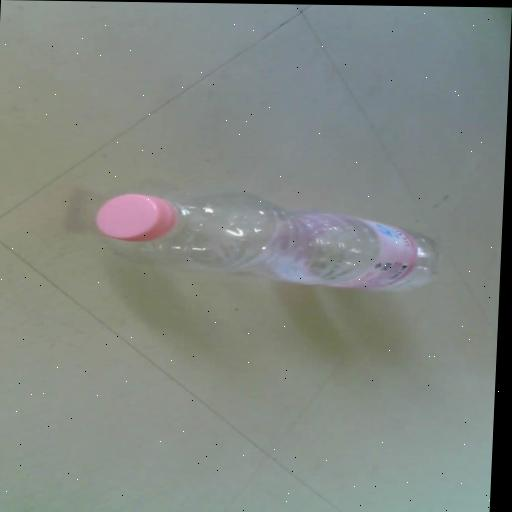bottle: (91, 190, 439, 291)
